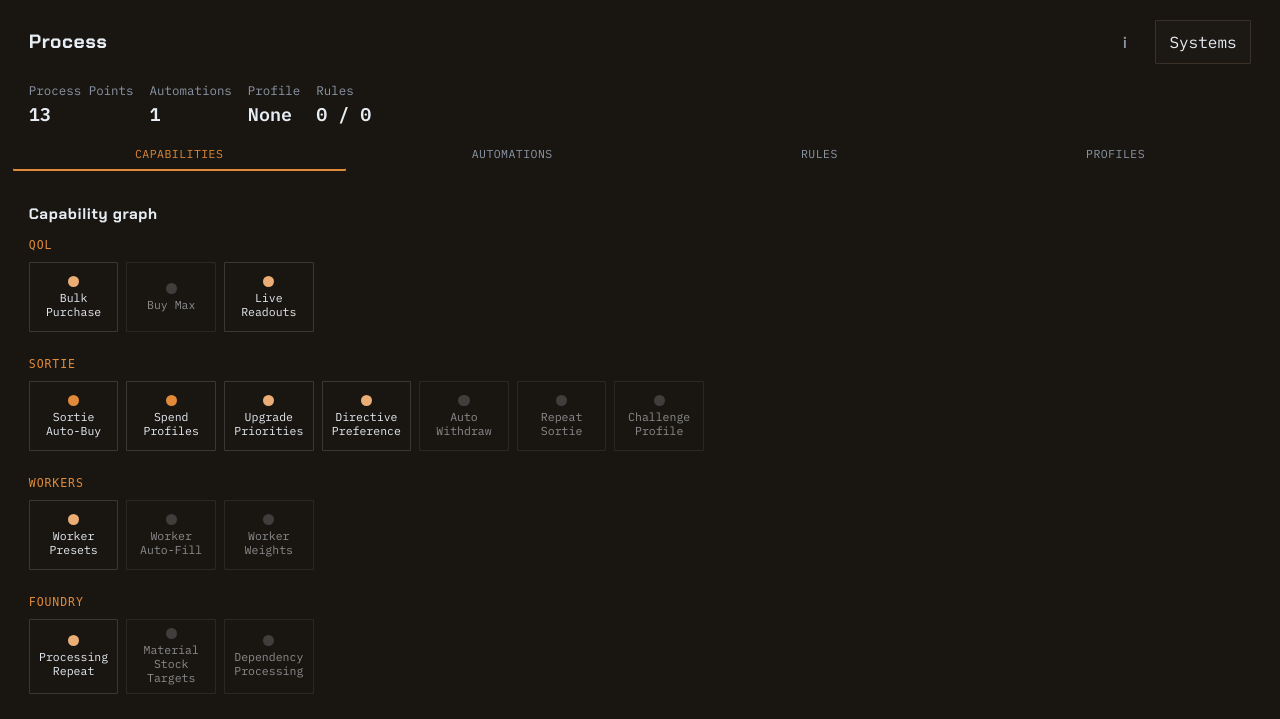
Process 3.0 UI › lists owned automations with ON/OFF and last action
Click the tab "Automations".
click(512, 154)  # box [350,137,675,171]
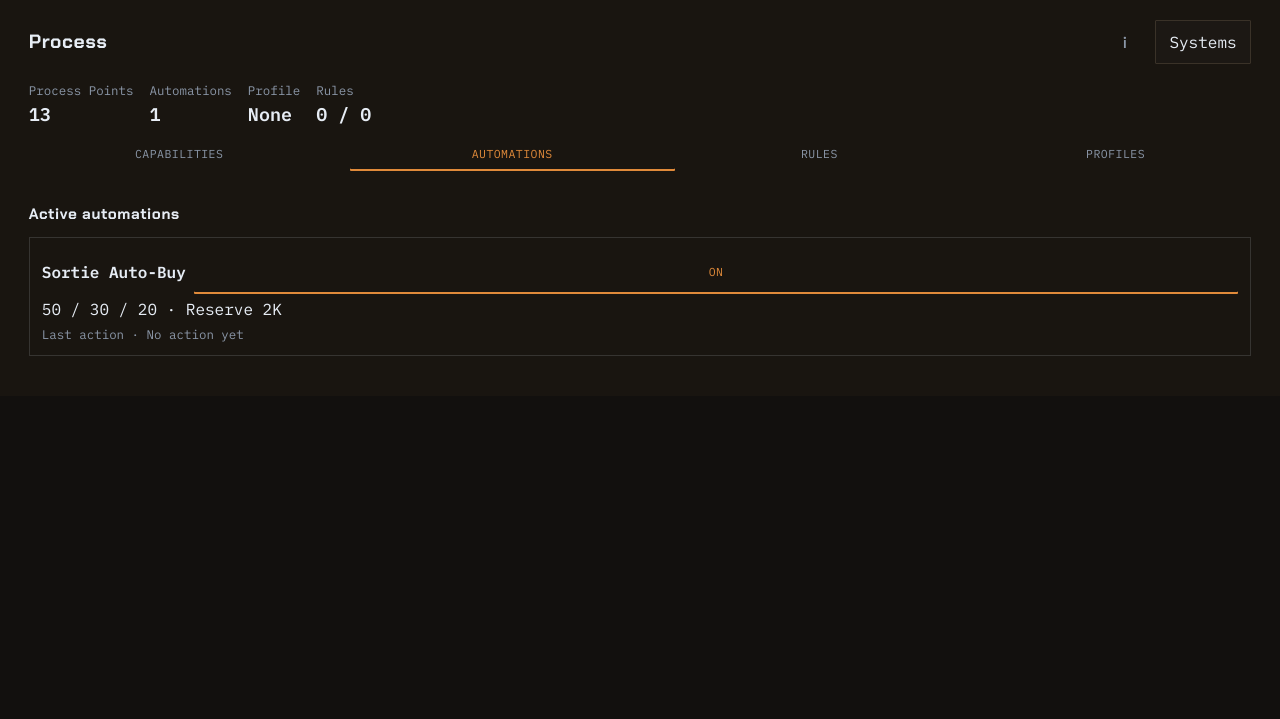
Expected: the text "50 / 30 / 20 · Reserve 2K" is shown, [42,299,282,319]
Expected: the button "ON" is shown, [194,250,1238,294]
Expected: the text "Last action · No action yet" is shown, [42,326,244,342]
